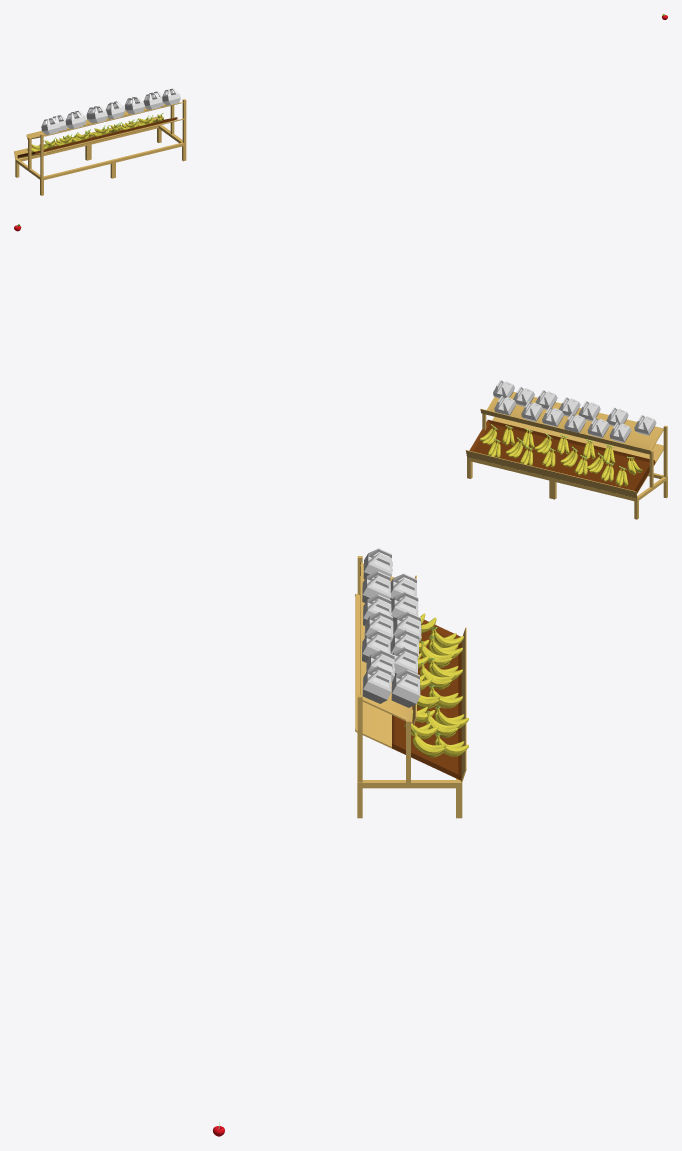
Rendered from Appla and banana.fbx.
3 renders of one model, top to bottom at view 1: azimuth 30°, elevation 25°; view 2: azimuth 150°, elevation 25°; view 3: azimuth 270°, elevation 25°, orthographic. The views are drawn at different scales.
Visible parts, largest first — view 1: Cube.001, Cube; view 2: Cube.001, Cube; view 3: Cube.001, Cube, Esfera.002, Esfera.008.
Boxes of the visible parts, left/top/right/bottom form: Cube.001: left=14, top=99, right=186, bottom=195; Cube: left=17, top=117, right=177, bottom=157; Cube.001: left=466, top=385, right=667, bottom=519; Cube: left=469, top=419, right=655, bottom=493; Cube.001: left=355, top=556, right=466, bottom=818; Cube: left=392, top=619, right=461, bottom=780; Esfera.002: left=362, top=666, right=391, bottom=703; Esfera.008: left=391, top=670, right=420, bottom=707.
Size of the model in its own units: 5379 by 610 by 1009.
